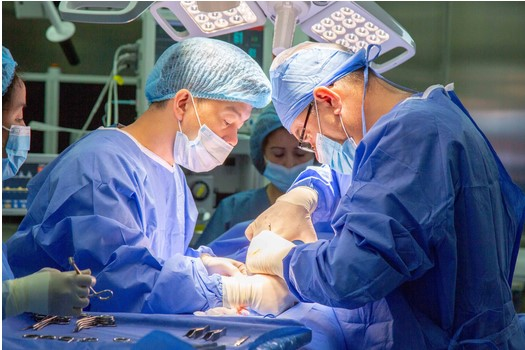face_with_mask: (147, 32, 266, 176), (271, 39, 380, 179), (1, 44, 34, 184), (255, 113, 315, 189)
